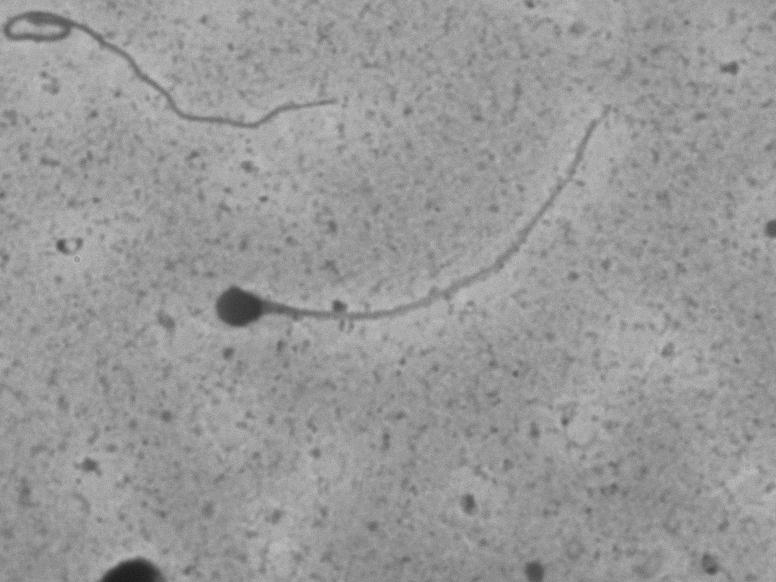Abnormal: (211, 137, 646, 383)
